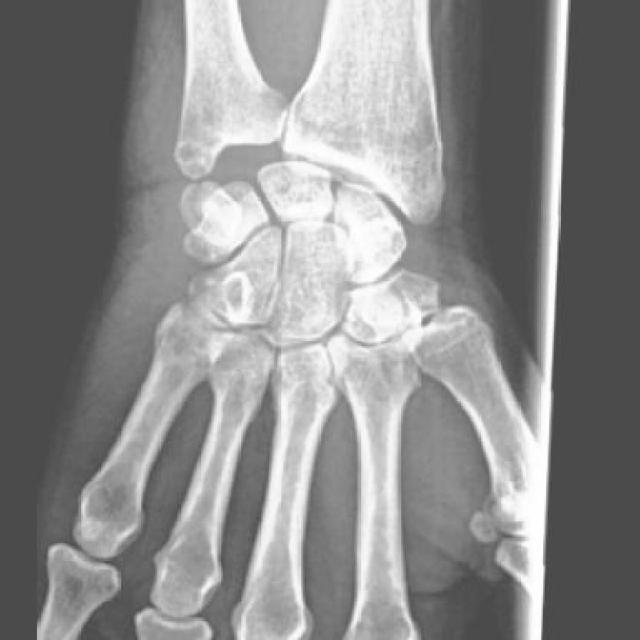Fracture: (168, 185, 242, 270)
